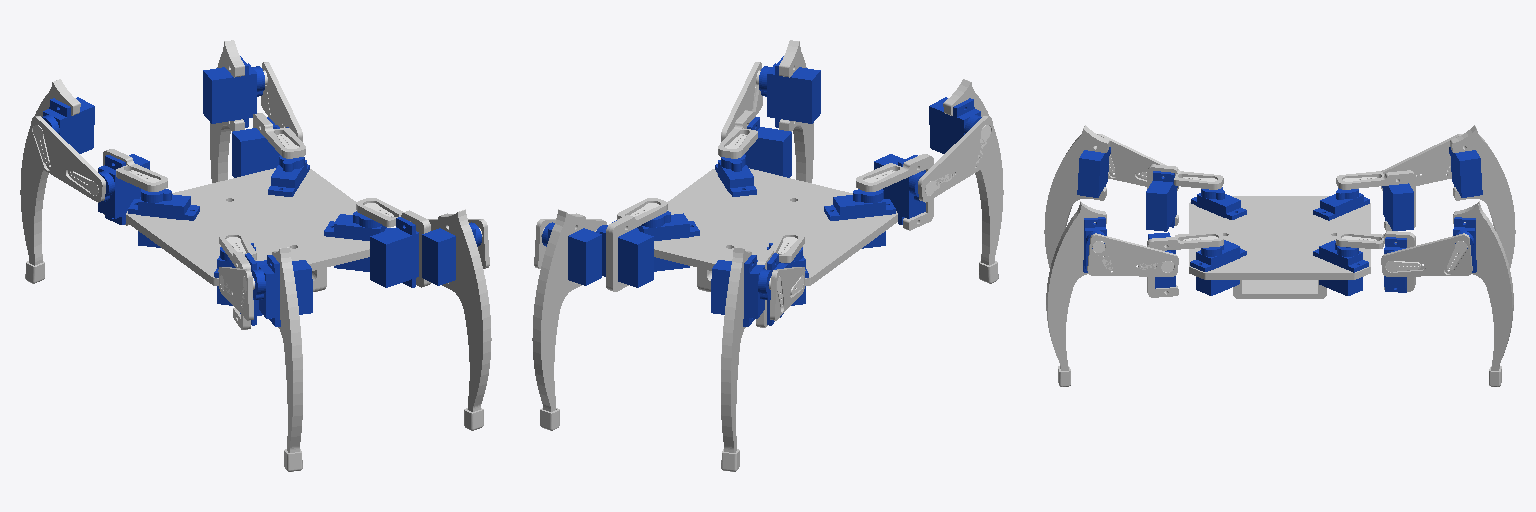
The robot description file, URDF, robot "spider_quadruped":
<?xml version="1.0"?>
<!--
  Spider-Like Quadruped, 12 DOF (SG90).
  Frame: x forward, y left, z up. Meshes are the assembly-space STLs (mm, Y-up),
  placed with scale 0.001 and rpy "1.5708 0 1.5708".
  Zero joint angles = CAD assembly pose. Joint axis points from servo body to horn.
  Joint limits = CAD self-collision sweep (3 deg steps, other joints at zero) capped at +/-90 deg servo travel.
  Masses: SG90 9 g, horn 0.5 g, printed parts 0.8 g/cm3, electronics + 2S 18650 lumped as 130 g in base.
-->
<robot name="spider_quadruped">

  <material name="print"><color rgba="0.85 0.85 0.85 1"/></material>
  <material name="servo"><color rgba="0.15 0.35 0.8 1"/></material>
  <material name="horn"><color rgba="0.95 0.95 0.95 1"/></material>

  <!-- ===================== BASE ===================== -->
  <link name="base_link">
    <inertial>
      <origin xyz="0 0 0.0086" rpy="0 0 0"/>
      <mass value="0.2025"/>
      <inertia ixx="7.194e-05" ixy="0" ixz="0" iyy="7.012e-05" iyz="0" izz="1.310e-04"/>
    </inertial>
    <visual>
      <origin xyz="-0.0675254 -0.132465 -0.054649" rpy="1.5708 0 1.5708"/>
      <geometry><mesh filename="../meshes/quadrapod reddit - base 5.0 remake-1.STL" scale="0.001 0.001 0.001"/></geometry>
      <material name="print"/>
    </visual>
    <visual>
      <origin xyz="-0.0675254 -0.132465 -0.054649" rpy="1.5708 0 1.5708"/>
      <geometry><mesh filename="../meshes/quadrapod reddit - Servo_motor.step-1.STL" scale="0.001 0.001 0.001"/></geometry>
      <material name="servo"/>
    </visual>
    <visual>
      <origin xyz="-0.0675254 -0.132465 -0.054649" rpy="1.5708 0 1.5708"/>
      <geometry><mesh filename="../meshes/quadrapod reddit - Servo_motor.step-4.STL" scale="0.001 0.001 0.001"/></geometry>
      <material name="servo"/>
    </visual>
    <visual>
      <origin xyz="-0.0675254 -0.132465 -0.054649" rpy="1.5708 0 1.5708"/>
      <geometry><mesh filename="../meshes/quadrapod reddit - Servo_motor.step-5.STL" scale="0.001 0.001 0.001"/></geometry>
      <material name="servo"/>
    </visual>
    <visual>
      <origin xyz="-0.0675254 -0.132465 -0.054649" rpy="1.5708 0 1.5708"/>
      <geometry><mesh filename="../meshes/quadrapod reddit - Servo_motor.step-6.STL" scale="0.001 0.001 0.001"/></geometry>
      <material name="servo"/>
    </visual>
    <collision>
      <origin xyz="-0.0675254 -0.132465 -0.054649" rpy="1.5708 0 1.5708"/>
      <geometry><mesh filename="../meshes/quadrapod reddit - base 5.0 remake-1.STL" scale="0.001 0.001 0.001"/></geometry>
    </collision>
  </link>

  <!-- ===================== FRONT LEFT ===================== -->
  <joint name="FL_coxa_joint" type="revolute">
    <parent link="base_link"/><child link="FL_coxa"/>
    <origin xyz="0.03752 0.037166 0.02855" rpy="0 0 0"/>
    <axis xyz="0 0 1"/>
    <limit lower="-1.5708" upper="0.5236" effort="0.2" velocity="10.5"/>
    <dynamics damping="0.02" friction="0.0"/>
  </joint>
  <link name="FL_coxa">
    <inertial>
      <origin xyz="-0.00046952 0.025303 -0.011077" rpy="0 0 0"/>
      <mass value="0.010901"/>
      <inertia ixx="1.3433e-06" ixy="7.7895e-08" ixz="-6.036e-08" iyy="1.1827e-06" iyz="2.6762e-07" izz="1.1172e-06"/>
    </inertial>
    <visual>
      <origin xyz="-0.105045 -0.169631 -0.083199" rpy="1.5708 0 1.5708"/>
      <geometry><mesh filename="../meshes/quadrapod reddit - clamp 1 redesigned-1.STL" scale="0.001 0.001 0.001"/></geometry>
      <material name="print"/>
    </visual>
    <visual>
      <origin xyz="-0.105045 -0.169631 -0.083199" rpy="1.5708 0 1.5708"/>
      <geometry><mesh filename="../meshes/quadrapod reddit - servo horn-1.STL" scale="0.001 0.001 0.001"/></geometry>
      <material name="horn"/>
    </visual>
    <visual>
      <origin xyz="-0.105045 -0.169631 -0.083199" rpy="1.5708 0 1.5708"/>
      <geometry><mesh filename="../meshes/quadrapod reddit - Servo_motor.step-2.STL" scale="0.001 0.001 0.001"/></geometry>
      <material name="servo"/>
    </visual>
    <collision>
      <origin xyz="-0.105045 -0.169631 -0.083199" rpy="1.5708 0 1.5708"/>
      <geometry><mesh filename="../meshes/quadrapod reddit - clamp 1 redesigned-1.STL" scale="0.001 0.001 0.001"/></geometry>
    </collision>
  </link>

  <joint name="FL_femur_joint" type="revolute">
    <parent link="FL_coxa"/><child link="FL_femur"/>
    <origin xyz="0.016051 0.024277 -0.0074" rpy="0 0 0"/>
    <axis xyz="0.9862 -0.1656 0"/>
    <limit lower="-1.5708" upper="1.5708" effort="0.2" velocity="10.5"/>
    <dynamics damping="0.02" friction="0.0"/>
  </joint>
  <link name="FL_femur">
    <inertial>
      <origin xyz="0.0037466 0.020988 0.0058263" rpy="0 0 0"/>
      <mass value="0.0024496"/>
      <inertia ixx="6.2957e-07" ixy="-8.8356e-08" ixz="-2.2326e-08" iyy="1.2071e-07" iyz="-1.359e-07" izz="5.4206e-07"/>
    </inertial>
    <visual>
      <origin xyz="-0.121096 -0.193908 -0.075799" rpy="1.5708 0 1.5708"/>
      <geometry><mesh filename="../meshes/quadrapod reddit - mid clamp redesign-1.STL" scale="0.001 0.001 0.001"/></geometry>
      <material name="print"/>
    </visual>
    <visual>
      <origin xyz="-0.121096 -0.193908 -0.075799" rpy="1.5708 0 1.5708"/>
      <geometry><mesh filename="../meshes/quadrapod reddit - servo horn-2.STL" scale="0.001 0.001 0.001"/></geometry>
      <material name="horn"/>
    </visual>
    <visual>
      <origin xyz="-0.121096 -0.193908 -0.075799" rpy="1.5708 0 1.5708"/>
      <geometry><mesh filename="../meshes/quadrapod reddit - servo horn-3.STL" scale="0.001 0.001 0.001"/></geometry>
      <material name="horn"/>
    </visual>
    <collision>
      <origin xyz="-0.121096 -0.193908 -0.075799" rpy="1.5708 0 1.5708"/>
      <geometry><mesh filename="../meshes/quadrapod reddit - mid clamp redesign-1.STL" scale="0.001 0.001 0.001"/></geometry>
    </collision>
  </link>

  <joint name="FL_tibia_joint" type="revolute">
    <parent link="FL_femur"/><child link="FL_tibia"/>
    <origin xyz="0.0063376 0.037747 0.014863" rpy="0 0 0"/>
    <axis xyz="0.9862 -0.1656 0"/>
    <limit lower="-0.9948" upper="1.5708" effort="0.2" velocity="10.5"/>
    <dynamics damping="0.02" friction="0.0"/>
  </joint>
  <link name="FL_tibia">
    <inertial>
      <origin xyz="-0.015733 0.0077231 -0.013664" rpy="0 0 0"/>
      <mass value="0.014061"/>
      <inertia ixx="7.1221e-06" ixy="-1.1556e-07" ixz="2.9199e-07" iyy="6.6603e-06" iyz="1.6351e-06" izz="1.4786e-06"/>
    </inertial>
    <visual>
      <origin xyz="-0.127433 -0.231655 -0.0906616" rpy="1.5708 0 1.5708"/>
      <geometry><mesh filename="../meshes/quadrapod reddit - tibia RD-1.STL" scale="0.001 0.001 0.001"/></geometry>
      <material name="print"/>
    </visual>
    <visual>
      <origin xyz="-0.127433 -0.231655 -0.0906616" rpy="1.5708 0 1.5708"/>
      <geometry><mesh filename="../meshes/quadrapod reddit - tibia tip-1.STL" scale="0.001 0.001 0.001"/></geometry>
      <material name="print"/>
    </visual>
    <visual>
      <origin xyz="-0.127433 -0.231655 -0.0906616" rpy="1.5708 0 1.5708"/>
      <geometry><mesh filename="../meshes/quadrapod reddit - Servo_motor.step-3.STL" scale="0.001 0.001 0.001"/></geometry>
      <material name="servo"/>
    </visual>
    <collision>
      <origin xyz="-0.127433 -0.231655 -0.0906616" rpy="1.5708 0 1.5708"/>
      <geometry><mesh filename="../meshes/quadrapod reddit - tibia RD-1.STL" scale="0.001 0.001 0.001"/></geometry>
    </collision>
    <collision>
      <origin xyz="-0.127433 -0.231655 -0.0906616" rpy="1.5708 0 1.5708"/>
      <geometry><mesh filename="../meshes/quadrapod reddit - tibia tip-1.STL" scale="0.001 0.001 0.001"/></geometry>
    </collision>
  </link>

  <joint name="FL_foot_joint" type="fixed">
    <parent link="FL_tibia"/><child link="FL_foot"/>
    <origin xyz="-0.01356 0.018587 -0.089869" rpy="0 0 0"/>
  </joint>
  <link name="FL_foot"/>

  <!-- ===================== REAR LEFT ===================== -->
  <joint name="RL_coxa_joint" type="revolute">
    <parent link="base_link"/><child link="RL_coxa"/>
    <origin xyz="-0.037166 0.03752 0.02855" rpy="0 0 0"/>
    <axis xyz="0 0 1"/>
    <limit lower="-0.5760" upper="1.5708" effort="0.2" velocity="10.5"/>
    <dynamics damping="0.02" friction="0.0"/>
  </joint>
  <link name="RL_coxa">
    <inertial>
      <origin xyz="-0.0013273 0.025273 -0.010665" rpy="0 0 0"/>
      <mass value="0.010901"/>
      <inertia ixx="1.3421e-06" ixy="-6.574e-08" ixz="4.0386e-08" iyy="1.161e-06" iyz="2.6305e-07" izz="1.1172e-06"/>
    </inertial>
    <visual>
      <origin xyz="-0.0303594 -0.169984 -0.083199" rpy="1.5708 0 1.5708"/>
      <geometry><mesh filename="../meshes/quadrapod reddit - Mirrorclamp 1 redesigned-1.STL" scale="0.001 0.001 0.001"/></geometry>
      <material name="print"/>
    </visual>
    <visual>
      <origin xyz="-0.0303594 -0.169984 -0.083199" rpy="1.5708 0 1.5708"/>
      <geometry><mesh filename="../meshes/quadrapod reddit - servo horn-4.STL" scale="0.001 0.001 0.001"/></geometry>
      <material name="horn"/>
    </visual>
    <visual>
      <origin xyz="-0.0303594 -0.169984 -0.083199" rpy="1.5708 0 1.5708"/>
      <geometry><mesh filename="../meshes/quadrapod reddit - Servo_motor.step-7.STL" scale="0.001 0.001 0.001"/></geometry>
      <material name="servo"/>
    </visual>
    <collision>
      <origin xyz="-0.0303594 -0.169984 -0.083199" rpy="1.5708 0 1.5708"/>
      <geometry><mesh filename="../meshes/quadrapod reddit - Mirrorclamp 1 redesigned-1.STL" scale="0.001 0.001 0.001"/></geometry>
    </collision>
  </link>

  <joint name="RL_femur_joint" type="revolute">
    <parent link="RL_coxa"/><child link="RL_femur"/>
    <origin xyz="-0.017733 0.023077 -0.0069" rpy="0 0 0"/>
    <axis xyz="-0.972 -0.2352 0"/>
    <limit lower="-1.5708" upper="1.5708" effort="0.2" velocity="10.5"/>
    <dynamics damping="0.02" friction="0.0"/>
  </joint>
  <link name="RL_femur">
    <inertial>
      <origin xyz="-0.005173 0.020448 0.0066131" rpy="0 0 0"/>
      <mass value="0.0024496"/>
      <inertia ixx="6.1528e-07" ixy="1.2108e-07" ixz="3.5638e-08" iyy="1.4603e-07" iyz="-1.4931e-07" izz="5.3144e-07"/>
    </inertial>
    <visual>
      <origin xyz="-0.0126263 -0.193062 -0.076299" rpy="1.5708 0 1.5708"/>
      <geometry><mesh filename="../meshes/quadrapod reddit - Mirrormid clamp redesign---------------------1.STL" scale="0.001 0.001 0.001"/></geometry>
      <material name="print"/>
    </visual>
    <visual>
      <origin xyz="-0.0126263 -0.193062 -0.076299" rpy="1.5708 0 1.5708"/>
      <geometry><mesh filename="../meshes/quadrapod reddit - servo horn-5.STL" scale="0.001 0.001 0.001"/></geometry>
      <material name="horn"/>
    </visual>
    <visual>
      <origin xyz="-0.0126263 -0.193062 -0.076299" rpy="1.5708 0 1.5708"/>
      <geometry><mesh filename="../meshes/quadrapod reddit - servo horn-6.STL" scale="0.001 0.001 0.001"/></geometry>
      <material name="horn"/>
    </visual>
    <collision>
      <origin xyz="-0.0126263 -0.193062 -0.076299" rpy="1.5708 0 1.5708"/>
      <geometry><mesh filename="../meshes/quadrapod reddit - Mirrormid clamp redesign---------------------1.STL" scale="0.001 0.001 0.001"/></geometry>
    </collision>
  </link>

  <joint name="RL_tibia_joint" type="revolute">
    <parent link="RL_femur"/><child link="RL_tibia"/>
    <origin xyz="-0.0088641 0.036639 0.016275" rpy="0 0 0"/>
    <axis xyz="-0.972 -0.2352 0"/>
    <limit lower="-1.5708" upper="0.9948" effort="0.2" velocity="10.5"/>
    <dynamics damping="0.02" friction="0.0"/>
  </joint>
  <link name="RL_tibia">
    <inertial>
      <origin xyz="0.014988 0.0094516 -0.013408" rpy="0 0 0"/>
      <mass value="0.014061"/>
      <inertia ixx="7.0932e-06" ixy="1.8779e-07" ixz="-4.667e-07" iyy="6.518e-06" iyz="1.8427e-06" izz="1.65e-06"/>
    </inertial>
    <visual>
      <origin xyz="-0.00376213 -0.229701 -0.0925738" rpy="1.5708 0 1.5708"/>
      <geometry><mesh filename="../meshes/quadrapod reddit - tibia RD-2.STL" scale="0.001 0.001 0.001"/></geometry>
      <material name="print"/>
    </visual>
    <visual>
      <origin xyz="-0.00376213 -0.229701 -0.0925738" rpy="1.5708 0 1.5708"/>
      <geometry><mesh filename="../meshes/quadrapod reddit - tibia tip-2.STL" scale="0.001 0.001 0.001"/></geometry>
      <material name="print"/>
    </visual>
    <visual>
      <origin xyz="-0.00376213 -0.229701 -0.0925738" rpy="1.5708 0 1.5708"/>
      <geometry><mesh filename="../meshes/quadrapod reddit - Servo_motor.step-8.STL" scale="0.001 0.001 0.001"/></geometry>
      <material name="servo"/>
    </visual>
    <collision>
      <origin xyz="-0.00376213 -0.229701 -0.0925738" rpy="1.5708 0 1.5708"/>
      <geometry><mesh filename="../meshes/quadrapod reddit - tibia RD-2.STL" scale="0.001 0.001 0.001"/></geometry>
    </collision>
    <collision>
      <origin xyz="-0.00376213 -0.229701 -0.0925738" rpy="1.5708 0 1.5708"/>
      <geometry><mesh filename="../meshes/quadrapod reddit - tibia tip-2.STL" scale="0.001 0.001 0.001"/></geometry>
    </collision>
  </link>

  <joint name="RL_foot_joint" type="fixed">
    <parent link="RL_tibia"/><child link="RL_foot"/>
    <origin xyz="0.011155 0.022571 -0.089045" rpy="0 0 0"/>
  </joint>
  <link name="RL_foot"/>

  <!-- ===================== REAR RIGHT ===================== -->
  <joint name="RR_coxa_joint" type="revolute">
    <parent link="base_link"/><child link="RR_coxa"/>
    <origin xyz="-0.03752 -0.037166 0.02855" rpy="0 0 0"/>
    <axis xyz="0 0 1"/>
    <limit lower="-1.5708" upper="0.5760" effort="0.2" velocity="10.5"/>
    <dynamics damping="0.02" friction="0.0"/>
  </joint>
  <link name="RR_coxa">
    <inertial>
      <origin xyz="-0.0015781 -0.02548 -0.010665" rpy="0 0 0"/>
      <mass value="0.010901"/>
      <inertia ixx="1.3287e-06" ixy="4.6707e-08" ixz="3.4993e-08" iyy="1.2335e-06" iyz="-2.6174e-07" izz="1.1761e-06"/>
    </inertial>
    <visual>
      <origin xyz="-0.0300058 -0.0952989 -0.083199" rpy="1.5708 0 1.5708"/>
      <geometry><mesh filename="../meshes/quadrapod reddit - Mirrorclamp 1 redesigned-2.STL" scale="0.001 0.001 0.001"/></geometry>
      <material name="print"/>
    </visual>
    <visual>
      <origin xyz="-0.0300058 -0.0952989 -0.083199" rpy="1.5708 0 1.5708"/>
      <geometry><mesh filename="../meshes/quadrapod reddit - servo horn-7.STL" scale="0.001 0.001 0.001"/></geometry>
      <material name="horn"/>
    </visual>
    <visual>
      <origin xyz="-0.0300058 -0.0952989 -0.083199" rpy="1.5708 0 1.5708"/>
      <geometry><mesh filename="../meshes/quadrapod reddit - Servo_motor.step-9.STL" scale="0.001 0.001 0.001"/></geometry>
      <material name="servo"/>
    </visual>
    <collision>
      <origin xyz="-0.0300058 -0.0952989 -0.083199" rpy="1.5708 0 1.5708"/>
      <geometry><mesh filename="../meshes/quadrapod reddit - Mirrorclamp 1 redesigned-2.STL" scale="0.001 0.001 0.001"/></geometry>
    </collision>
  </link>

  <joint name="RR_femur_joint" type="revolute">
    <parent link="RR_coxa"/><child link="RR_femur"/>
    <origin xyz="-0.01738 -0.023431 -0.0069" rpy="0 0 0"/>
    <axis xyz="-0.972 0.2352 0"/>
    <limit lower="-1.5708" upper="1.5708" effort="0.2" velocity="10.5"/>
    <dynamics damping="0.02" friction="0.0"/>
  </joint>
  <link name="RR_femur">
    <inertial>
      <origin xyz="-0.0052527 -0.020428 0.0066131" rpy="0 0 0"/>
      <mass value="0.0024496"/>
      <inertia ixx="6.1521e-07" ixy="-1.2122e-07" ixz="3.5146e-08" iyy="1.461e-07" iyz="1.4943e-07" izz="5.3144e-07"/>
    </inertial>
    <visual>
      <origin xyz="-0.0126263 -0.0718681 -0.076299" rpy="1.5708 0 1.5708"/>
      <geometry><mesh filename="../meshes/quadrapod reddit - Mirrormid clamp redesign---------------------2.STL" scale="0.001 0.001 0.001"/></geometry>
      <material name="print"/>
    </visual>
    <visual>
      <origin xyz="-0.0126263 -0.0718681 -0.076299" rpy="1.5708 0 1.5708"/>
      <geometry><mesh filename="../meshes/quadrapod reddit - servo horn-8.STL" scale="0.001 0.001 0.001"/></geometry>
      <material name="horn"/>
    </visual>
    <visual>
      <origin xyz="-0.0126263 -0.0718681 -0.076299" rpy="1.5708 0 1.5708"/>
      <geometry><mesh filename="../meshes/quadrapod reddit - servo horn-9.STL" scale="0.001 0.001 0.001"/></geometry>
      <material name="horn"/>
    </visual>
    <collision>
      <origin xyz="-0.0126263 -0.0718681 -0.076299" rpy="1.5708 0 1.5708"/>
      <geometry><mesh filename="../meshes/quadrapod reddit - Mirrormid clamp redesign---------------------2.STL" scale="0.001 0.001 0.001"/></geometry>
    </collision>
  </link>

  <joint name="RR_tibia_joint" type="revolute">
    <parent link="RR_femur"/><child link="RR_tibia"/>
    <origin xyz="-0.0088641 -0.036639 0.016275" rpy="0 0 0"/>
    <axis xyz="-0.972 0.2352 0"/>
    <limit lower="-1.0996" upper="1.5708" effort="0.2" velocity="10.5"/>
    <dynamics damping="0.02" friction="0.0"/>
  </joint>
  <link name="RR_tibia">
    <inertial>
      <origin xyz="0.014988 -0.0094516 -0.013408" rpy="0 0 0"/>
      <mass value="0.014061"/>
      <inertia ixx="7.0932e-06" ixy="-1.8779e-07" ixz="-4.667e-07" iyy="6.518e-06" iyz="-1.8427e-06" izz="1.65e-06"/>
    </inertial>
    <visual>
      <origin xyz="-0.00376213 -0.0352287 -0.0925738" rpy="1.5708 0 1.5708"/>
      <geometry><mesh filename="../meshes/quadrapod reddit - tibia RD-3.STL" scale="0.001 0.001 0.001"/></geometry>
      <material name="print"/>
    </visual>
    <visual>
      <origin xyz="-0.00376213 -0.0352287 -0.0925738" rpy="1.5708 0 1.5708"/>
      <geometry><mesh filename="../meshes/quadrapod reddit - tibia tip-3.STL" scale="0.001 0.001 0.001"/></geometry>
      <material name="print"/>
    </visual>
    <visual>
      <origin xyz="-0.00376213 -0.0352287 -0.0925738" rpy="1.5708 0 1.5708"/>
      <geometry><mesh filename="../meshes/quadrapod reddit - Servo_motor.step-10.STL" scale="0.001 0.001 0.001"/></geometry>
      <material name="servo"/>
    </visual>
    <collision>
      <origin xyz="-0.00376213 -0.0352287 -0.0925738" rpy="1.5708 0 1.5708"/>
      <geometry><mesh filename="../meshes/quadrapod reddit - tibia RD-3.STL" scale="0.001 0.001 0.001"/></geometry>
    </collision>
    <collision>
      <origin xyz="-0.00376213 -0.0352287 -0.0925738" rpy="1.5708 0 1.5708"/>
      <geometry><mesh filename="../meshes/quadrapod reddit - tibia tip-3.STL" scale="0.001 0.001 0.001"/></geometry>
    </collision>
  </link>

  <joint name="RR_foot_joint" type="fixed">
    <parent link="RR_tibia"/><child link="RR_foot"/>
    <origin xyz="0.011155 -0.022571 -0.089045" rpy="0 0 0"/>
  </joint>
  <link name="RR_foot"/>

  <!-- ===================== FRONT RIGHT ===================== -->
  <joint name="FR_coxa_joint" type="revolute">
    <parent link="base_link"/><child link="FR_coxa"/>
    <origin xyz="0.037166 -0.03752 0.02855" rpy="0 0 0"/>
    <axis xyz="0 0 1"/>
    <limit lower="-0.5236" upper="1.5708" effort="0.2" velocity="10.5"/>
    <dynamics damping="0.02" friction="0.0"/>
  </joint>
  <link name="FR_coxa">
    <inertial>
      <origin xyz="0.00049728 -0.024847 -0.011077" rpy="0 0 0"/>
      <mass value="0.010901"/>
      <inertia ixx="1.333e-06" ixy="-5.2976e-08" ixz="-5.7648e-08" iyy="1.252e-06" iyz="-2.6716e-07" izz="1.1761e-06"/>
    </inertial>
    <visual>
      <origin xyz="-0.104691 -0.0949453 -0.083199" rpy="1.5708 0 1.5708"/>
      <geometry><mesh filename="../meshes/quadrapod reddit - clamp 1 redesigned-2.STL" scale="0.001 0.001 0.001"/></geometry>
      <material name="print"/>
    </visual>
    <visual>
      <origin xyz="-0.104691 -0.0949453 -0.083199" rpy="1.5708 0 1.5708"/>
      <geometry><mesh filename="../meshes/quadrapod reddit - servo horn-10.STL" scale="0.001 0.001 0.001"/></geometry>
      <material name="horn"/>
    </visual>
    <visual>
      <origin xyz="-0.104691 -0.0949453 -0.083199" rpy="1.5708 0 1.5708"/>
      <geometry><mesh filename="../meshes/quadrapod reddit - Servo_motor.step-11.STL" scale="0.001 0.001 0.001"/></geometry>
      <material name="servo"/>
    </visual>
    <collision>
      <origin xyz="-0.104691 -0.0949453 -0.083199" rpy="1.5708 0 1.5708"/>
      <geometry><mesh filename="../meshes/quadrapod reddit - clamp 1 redesigned-2.STL" scale="0.001 0.001 0.001"/></geometry>
    </collision>
  </link>

  <joint name="FR_femur_joint" type="revolute">
    <parent link="FR_coxa"/><child link="FR_femur"/>
    <origin xyz="0.016404 -0.023924 -0.0074" rpy="0 0 0"/>
    <axis xyz="0.9862 0.1656 0"/>
    <limit lower="-1.5708" upper="1.5708" effort="0.2" velocity="10.5"/>
    <dynamics damping="0.02" friction="0.0"/>
  </joint>
  <link name="FR_femur">
    <inertial>
      <origin xyz="0.0038275 -0.020974 0.0058263" rpy="0 0 0"/>
      <mass value="0.0024496"/>
      <inertia ixx="6.2952e-07" ixy="8.8493e-08" ixz="-2.1821e-08" iyy="1.2075e-07" iyz="1.3599e-07" izz="5.4205e-07"/>
    </inertial>
    <visual>
      <origin xyz="-0.121096 -0.0710214 -0.075799" rpy="1.5708 0 1.5708"/>
      <geometry><mesh filename="../meshes/quadrapod reddit - mid clamp redesign-2.STL" scale="0.001 0.001 0.001"/></geometry>
      <material name="print"/>
    </visual>
    <visual>
      <origin xyz="-0.121096 -0.0710214 -0.075799" rpy="1.5708 0 1.5708"/>
      <geometry><mesh filename="../meshes/quadrapod reddit - servo horn-11.STL" scale="0.001 0.001 0.001"/></geometry>
      <material name="horn"/>
    </visual>
    <visual>
      <origin xyz="-0.121096 -0.0710214 -0.075799" rpy="1.5708 0 1.5708"/>
      <geometry><mesh filename="../meshes/quadrapod reddit - servo horn-12.STL" scale="0.001 0.001 0.001"/></geometry>
      <material name="horn"/>
    </visual>
    <collision>
      <origin xyz="-0.121096 -0.0710214 -0.075799" rpy="1.5708 0 1.5708"/>
      <geometry><mesh filename="../meshes/quadrapod reddit - mid clamp redesign-2.STL" scale="0.001 0.001 0.001"/></geometry>
    </collision>
  </link>

  <joint name="FR_tibia_joint" type="revolute">
    <parent link="FR_femur"/><child link="FR_tibia"/>
    <origin xyz="0.0063376 -0.037747 0.014863" rpy="0 0 0"/>
    <axis xyz="0.9862 0.1656 0"/>
    <limit lower="-1.5708" upper="0.9948" effort="0.2" velocity="10.5"/>
    <dynamics damping="0.02" friction="0.0"/>
  </joint>
  <link name="FR_tibia">
    <inertial>
      <origin xyz="-0.015733 -0.0077231 -0.013664" rpy="0 0 0"/>
      <mass value="0.014061"/>
      <inertia ixx="7.1221e-06" ixy="1.1556e-07" ixz="2.9199e-07" iyy="6.6603e-06" iyz="-1.6351e-06" izz="1.4786e-06"/>
    </inertial>
    <visual>
      <origin xyz="-0.127433 -0.0332746 -0.0906616" rpy="1.5708 0 1.5708"/>
      <geometry><mesh filename="../meshes/quadrapod reddit - tibia RD-4.STL" scale="0.001 0.001 0.001"/></geometry>
      <material name="print"/>
    </visual>
    <visual>
      <origin xyz="-0.127433 -0.0332746 -0.0906616" rpy="1.5708 0 1.5708"/>
      <geometry><mesh filename="../meshes/quadrapod reddit - tibia tip-4.STL" scale="0.001 0.001 0.001"/></geometry>
      <material name="print"/>
    </visual>
    <visual>
      <origin xyz="-0.127433 -0.0332746 -0.0906616" rpy="1.5708 0 1.5708"/>
      <geometry><mesh filename="../meshes/quadrapod reddit - Servo_motor.step-12.STL" scale="0.001 0.001 0.001"/></geometry>
      <material name="servo"/>
    </visual>
    <collision>
      <origin xyz="-0.127433 -0.0332746 -0.0906616" rpy="1.5708 0 1.5708"/>
      <geometry><mesh filename="../meshes/quadrapod reddit - tibia RD-4.STL" scale="0.001 0.001 0.001"/></geometry>
    </collision>
    <collision>
      <origin xyz="-0.127433 -0.0332746 -0.0906616" rpy="1.5708 0 1.5708"/>
      <geometry><mesh filename="../meshes/quadrapod reddit - tibia tip-4.STL" scale="0.001 0.001 0.001"/></geometry>
    </collision>
  </link>

  <joint name="FR_foot_joint" type="fixed">
    <parent link="FR_tibia"/><child link="FR_foot"/>
    <origin xyz="-0.01356 -0.018587 -0.089869" rpy="0 0 0"/>
  </joint>
  <link name="FR_foot"/>

</robot>

--- Facts derived from the render (not from the file) ---
3 views of the same robot in one strip: view 1: azimuth 30°, elevation 25°; view 2: azimuth 150°, elevation 25°; view 3: azimuth 270°, elevation 25° (orthographic).
Model spider_quadruped with 17 links and 16 joints (12 revolute, 4 fixed), rooted at base_link, posed every joint at zero.
Visible links, largest first — view 1: base_link, FR_tibia, RR_tibia, RL_tibia, FL_tibia, FR_coxa, RL_femur, FL_coxa, RL_coxa, RR_coxa, FL_femur, RR_femur (+1 smaller); view 2: base_link, FL_tibia, RL_tibia, RR_tibia, FR_tibia, FL_coxa, RR_coxa, RR_femur, FR_coxa, RL_femur, RL_coxa, FR_femur (+1 smaller); view 3: base_link, FL_tibia, FR_tibia, RL_tibia, RR_tibia, FL_femur, FR_femur, RR_coxa, RL_coxa, FR_coxa, FL_coxa, RL_femur (+1 smaller).
Link boxes in pixels (<box>): base_link: <box>126,155,392,305</box>; FR_tibia: <box>422,209,491,430</box>; RR_tibia: <box>251,247,312,471</box>; RL_tibia: <box>20,79,94,283</box>; FL_tibia: <box>203,40,264,182</box>; FR_coxa: <box>356,198,430,287</box>; RL_femur: <box>28,116,105,202</box>; FL_coxa: <box>232,113,305,177</box>; RL_coxa: <box>98,149,167,225</box>; RR_coxa: <box>219,232,266,329</box>; FL_femur: <box>261,62,302,141</box>; RR_femur: <box>218,267,254,320</box>; base_link: <box>634,154,897,305</box>; FL_tibia: <box>532,209,601,430</box>; RL_tibia: <box>711,247,772,471</box>; RR_tibia: <box>929,79,1003,283</box>; FR_tibia: <box>759,40,820,182</box>; FL_coxa: <box>596,198,667,291</box>; RR_coxa: <box>856,154,933,230</box>; RR_femur: <box>918,116,995,202</box>; FR_coxa: <box>718,110,791,177</box>; RL_femur: <box>769,267,805,320</box>; RL_coxa: <box>756,232,804,327</box>; FR_femur: <box>721,62,762,141</box>; base_link: <box>1189,187,1370,298</box>; FL_tibia: <box>1453,201,1513,386</box>; FR_tibia: <box>1046,201,1106,386</box>; RL_tibia: <box>1449,125,1515,267</box>; RR_tibia: <box>1044,125,1110,267</box>; FL_femur: <box>1381,233,1472,276</box>; FR_femur: <box>1087,233,1178,276</box>; RR_coxa: <box>1146,164,1223,231</box>; RL_coxa: <box>1336,170,1415,230</box>; FR_coxa: <box>1147,232,1223,297</box>; FL_coxa: <box>1336,231,1415,292</box>; RL_femur: <box>1381,134,1462,190</box>.
Size in the robot's own frame: 0.1292 by 0.2574 by 0.1109 metres.
41 mesh visuals loaded from 41 distinct referenced files (41 binary STL).
